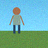person: (10, 7, 24, 33)
